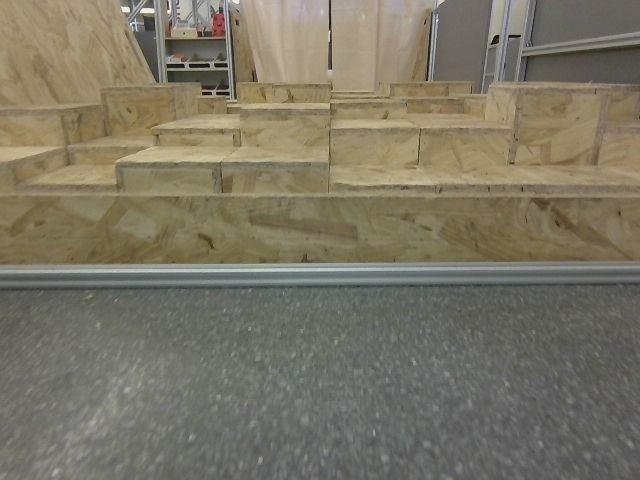curtain: (243, 0, 390, 86)
